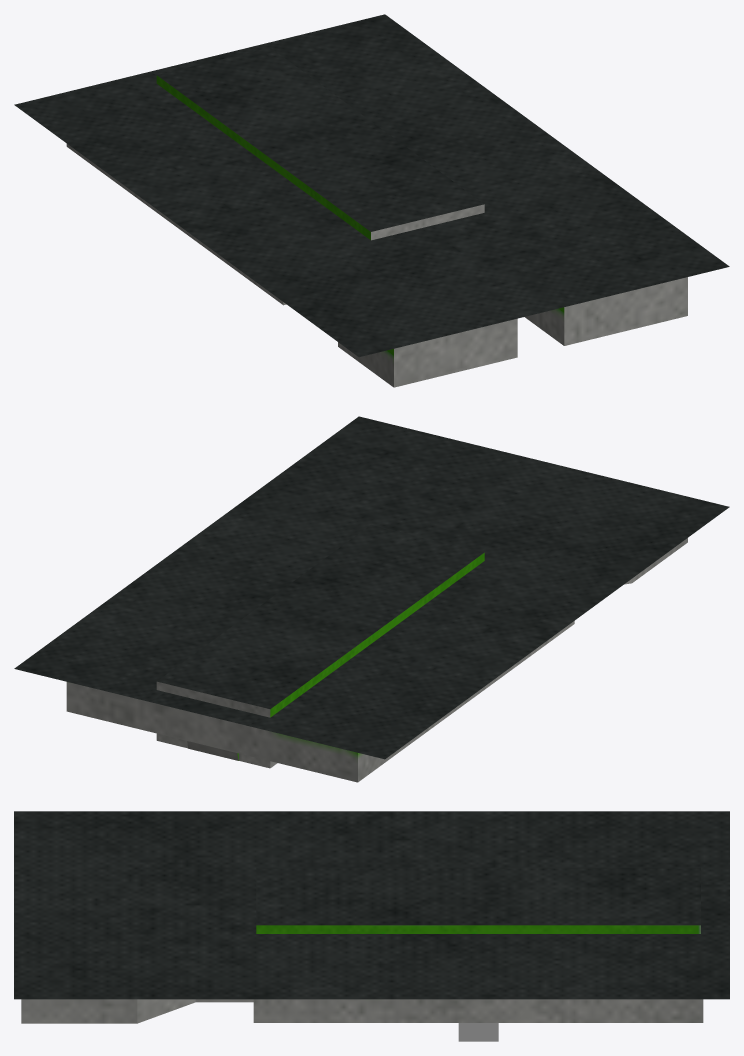
Rendered from Metro y la chingada.fbx.
The picture shows the model from 3 angles, top to bottom: view 1: azimuth 30°, elevation 25°; view 2: azimuth 150°, elevation 25°; view 3: azimuth 270°, elevation 25°; orthographic projection. The views are drawn at different scales.
Parts seen in each view (by area): view 1: Roof, Ground, Walls; view 2: Roof, Ground, Walls; view 3: Roof, Ground, Walls, Slope.
Boxes of the visible parts, x1=… form: Roof: x1=14, y1=14, x2=729, y2=357; Ground: x1=66, y1=144, x2=687, y2=387; Walls: x1=156, y1=75, x2=484, y2=240; Roof: x1=14, y1=416, x2=729, y2=759; Ground: x1=66, y1=538, x2=687, y2=782; Walls: x1=156, y1=552, x2=484, y2=768; Roof: x1=14, y1=811, x2=729, y2=999; Ground: x1=21, y1=999, x2=703, y2=1023; Walls: x1=256, y1=925, x2=700, y2=933; Slope: x1=458, y1=1023, x2=498, y2=1041.
Size of the model in its own units: 4590 by 1421 by 7390.
Materials: 6 (6 with a texture image).
